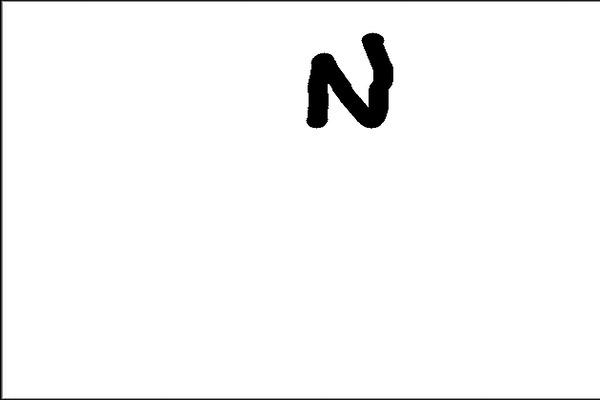N: (298, 26, 399, 133)
